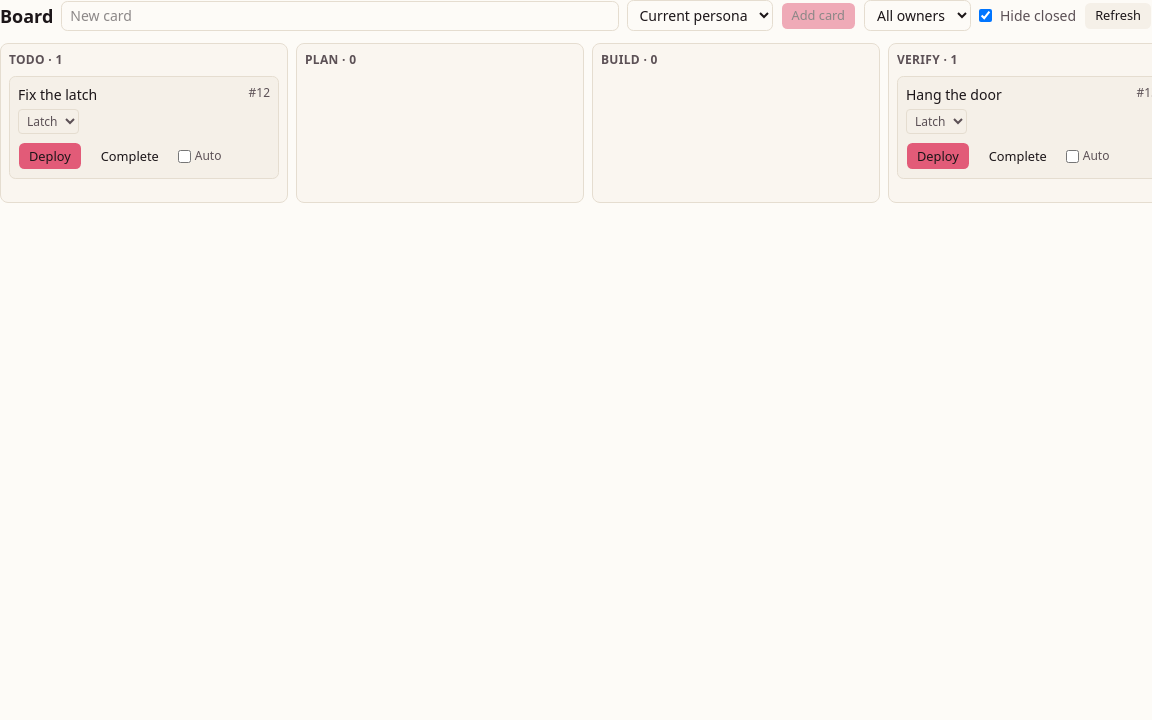
Scenario: BoardView › shows four columns, deploy and complete on every card, and history only in the detail view
Expected: the button "Add card" is shown, [780,2,856,30]
Click the element with id "board-card-12".
click(144, 128)  # box [9,76,279,179]
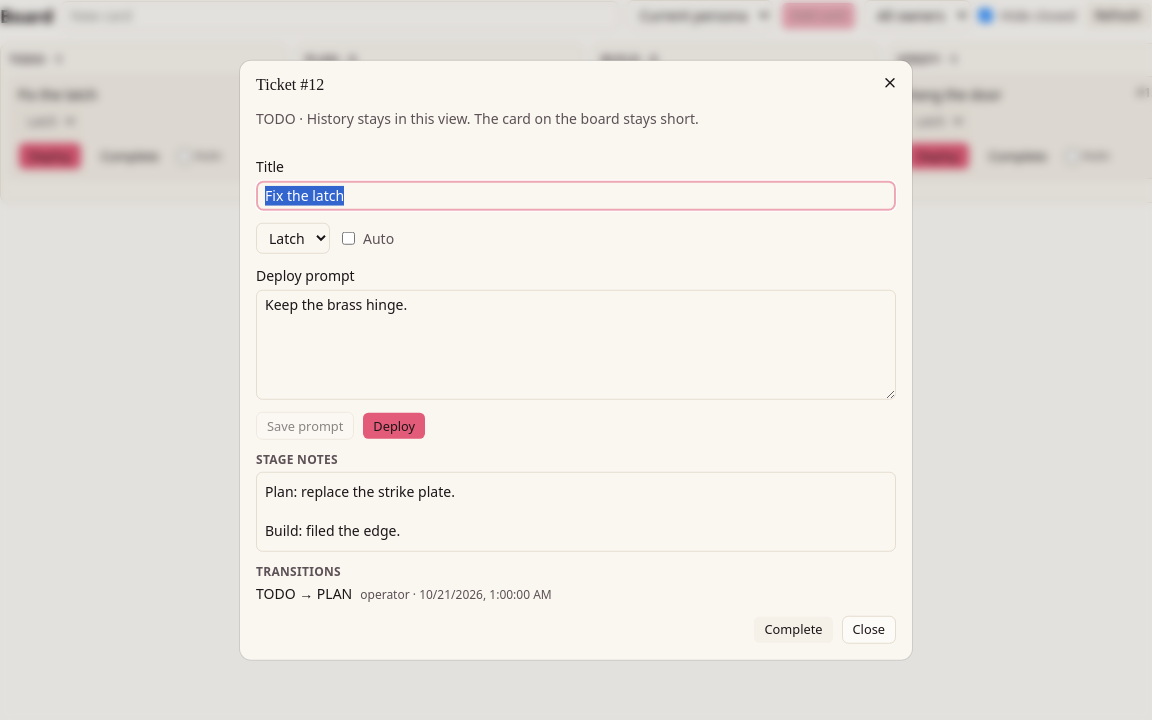
Expected: the text "Ticket #12" is shown, [256,76,324,93]
Expected: the text "Plan: replace the strike plate." is shown, [265,482,455,501]
Expected: the text "TODO → PLAN" is shown, [256,583,352,603]
